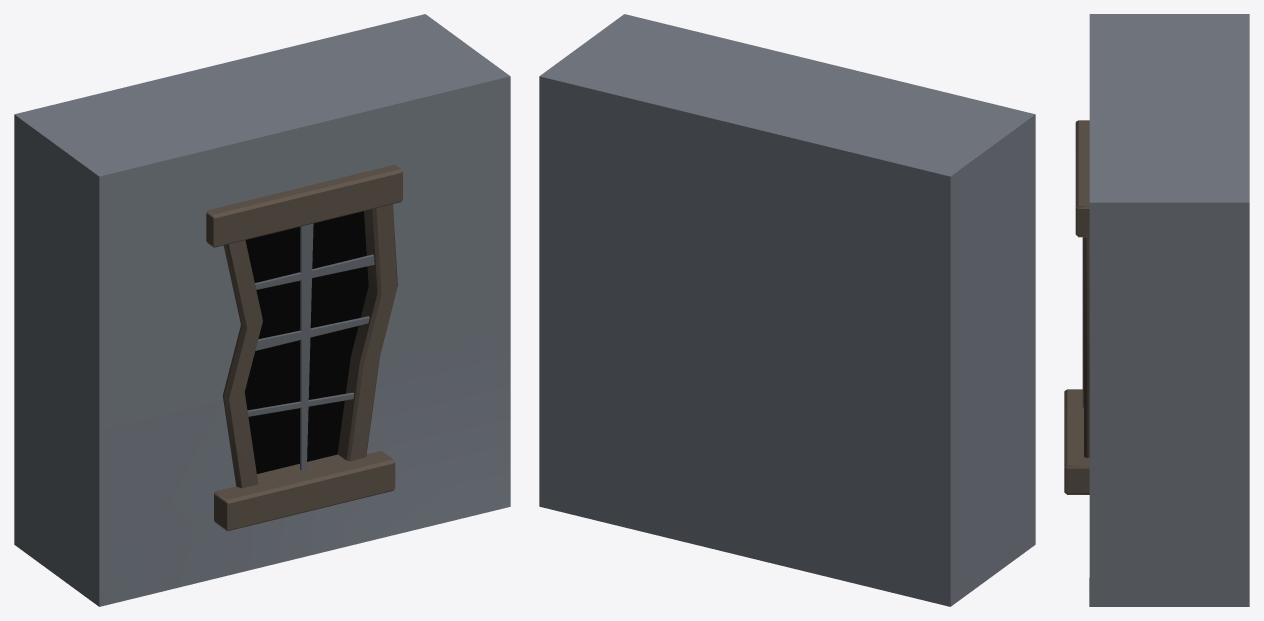
File: FenetreMur.fbx
The picture shows the model from 3 angles, left to right: view 1: azimuth 30°, elevation 25°; view 2: azimuth 150°, elevation 25°; view 3: azimuth 270°, elevation 25°; orthographic projection. The views are drawn at different scales.
Visible parts, largest first — view 1: polySurface1, Vitre, Rebord_Fenetre3, Rebord_Fenetre, Rebord_Fenetre1, Rebord_Fenetre2, Baton_Fenetre1, Baton_Fenetre, Baton_Fenetre3, Baton_Fenetre2; view 2: polySurface1; view 3: polySurface1, Rebord_Fenetre3, Rebord_Fenetre, Rebord_Fenetre1, Rebord_Fenetre2.
Part boxes in pixels (x1,y1,x2,y2): polySurface1: (14,14,510,606); Vitre: (245,211,368,473); Rebord_Fenetre3: (214,450,395,531); Rebord_Fenetre: (206,164,402,247); Rebord_Fenetre1: (337,204,397,461); Rebord_Fenetre2: (222,240,262,488); Baton_Fenetre1: (300,223,313,470); Baton_Fenetre: (255,254,374,289); Baton_Fenetre3: (255,316,369,350); Baton_Fenetre2: (247,392,353,416); polySurface1: (539,14,1035,606); polySurface1: (1089,14,1249,606); Rebord_Fenetre3: (1064,389,1089,494); Rebord_Fenetre: (1075,120,1089,237); Rebord_Fenetre1: (1084,237,1089,457); Rebord_Fenetre2: (1082,237,1083,407).
Size of the model in its own units: 3 by 3 by 1.25.
